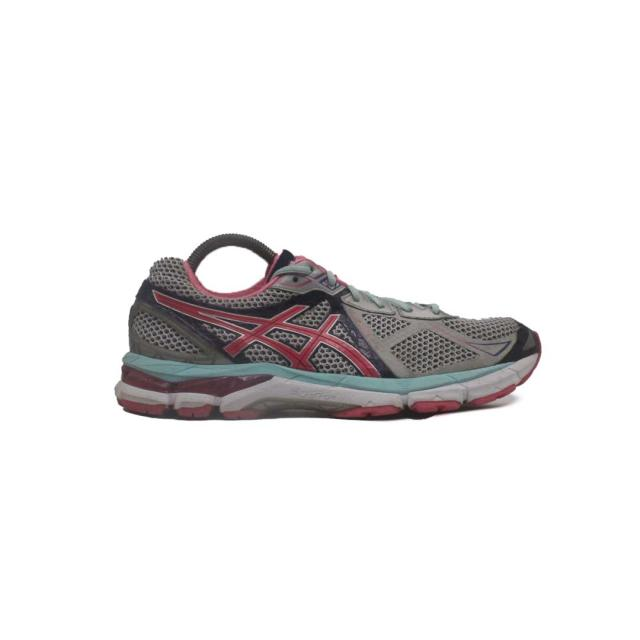heel: (123, 244, 154, 362)
midsole: (114, 351, 541, 418)
uppersole: (158, 223, 545, 370)
